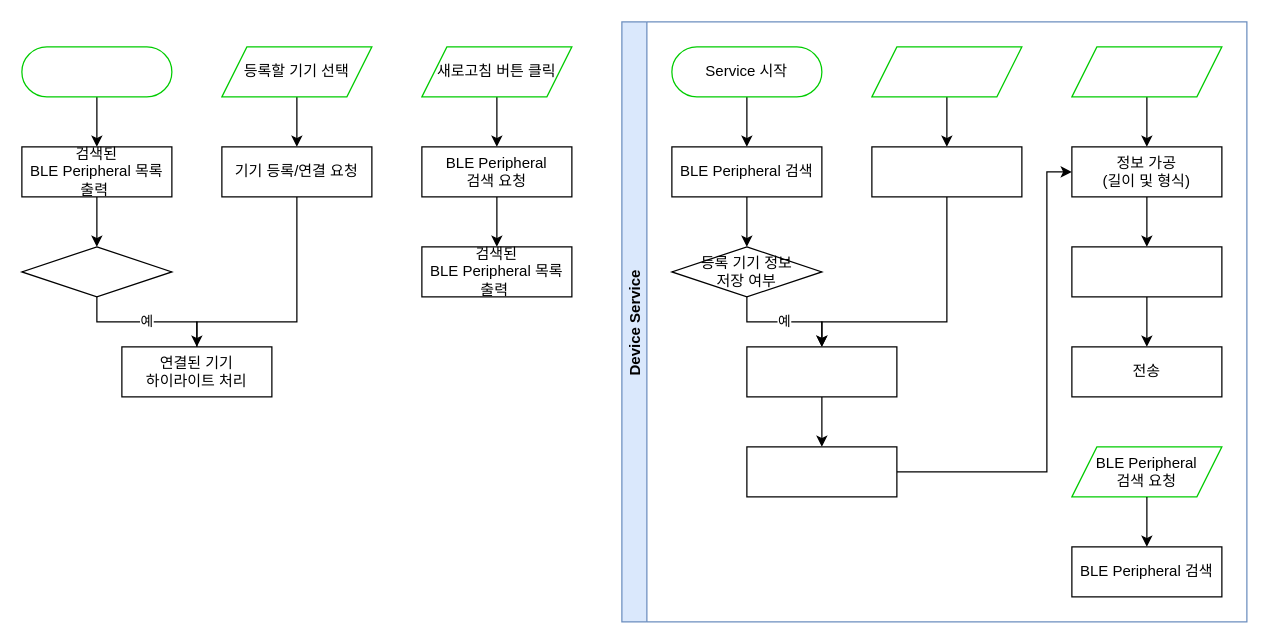
Image size: 1269x644. Some labels were removed from this diagram. Each missing label, with the box of its shape:
Fragment 시작: (21, 46, 172, 97)
기기 연결: (746, 346, 897, 397)
데이터 전송 요청: (1071, 46, 1222, 97)
등록 기기 정보 저장: (871, 146, 1022, 197)
등록할 기기 요청: (871, 46, 1022, 97)
설정 데이터 전송 요청: (746, 446, 897, 497)
연결 여부: (21, 246, 172, 297)
큐에 저장: (1071, 246, 1222, 297)
